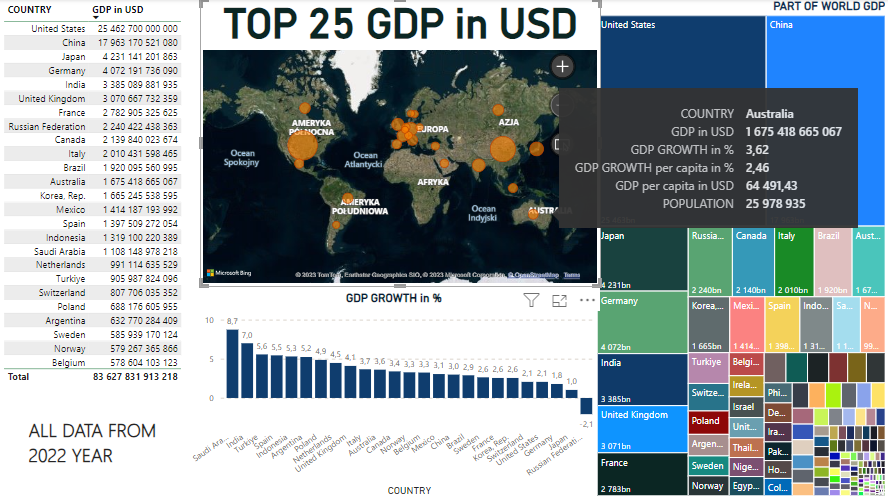

The page's visual inventory and layout, read from the dashboard file:
{"tool":"powerbi","page":{"name":"Page 1","canvas":[1280,720],"ordinal":0},"visuals":[{"type":"tableEx","fields":{"Values":["general_data.COUNTRY (data from WB)","Sum(general_data.GDP in USD)"]},"box":[0,0,267.1,575.7],"z":0},{"type":"map","title":"TOP 25 GDP in USD","fields":{"Category":["general_data.COUNTRY"],"Size":["Sum(general_data.GDP in USD)"]},"box":[288.6,0,577.1,414.3],"z":1000},{"type":"clusteredColumnChart","title":"GDP GROWTH in %","fields":{"Category":["general_data.COUNTRY"],"Y":["Sum(general_data.GDP GROWTH in %)"]},"box":[267.1,420,598.6,300],"z":2000},{"type":"treemap","title":"PART OF WORLD GDP","fields":{"Group":["general_data.COUNTRY"],"Values":["Sum(general_data.GDP in USD)"]},"box":[855.7,0,424.3,720],"z":3000},{"type":"textbox","box":[35.7,595.7,207.1,90],"z":4000}]}

Visuals, with their boxes in screenshot pixels (x1, y1, x2, y2), scaled from the page's 1280x720 canvas onto the 888x498 screenshot:
tableEx - general_data.COUNTRY (data from WB) x Sum(general_data.GDP in USD): left=0, top=0, right=185, bottom=398
"TOP 25 GDP in USD" map: left=200, top=0, right=601, bottom=287
"GDP GROWTH in %" clusteredColumnChart: left=185, top=290, right=601, bottom=497
"PART OF WORLD GDP" treemap: left=594, top=0, right=887, bottom=497
textbox: left=25, top=412, right=168, bottom=474
